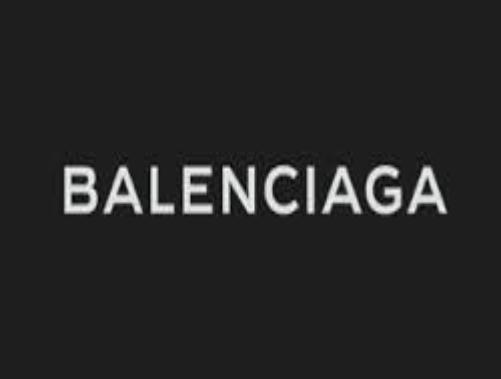BALENCIAGA: (62, 162, 450, 219)
